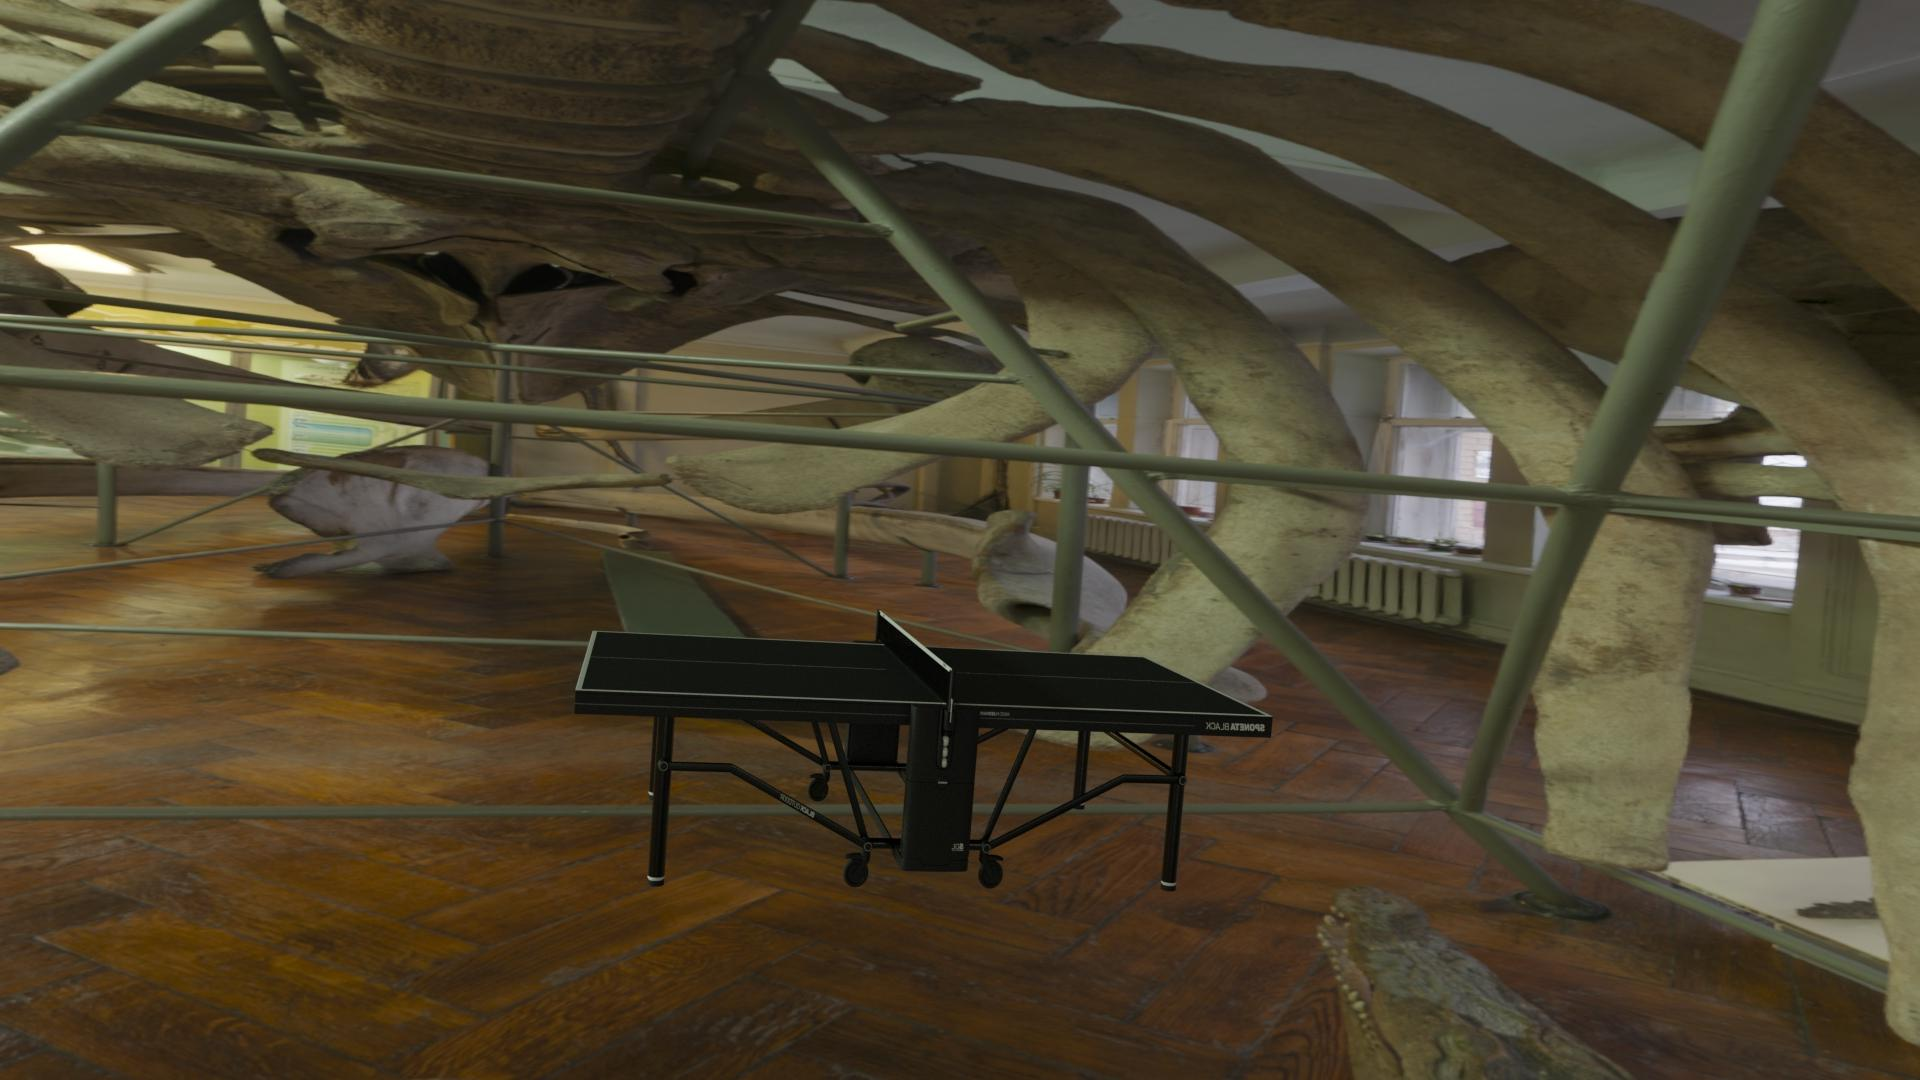table: (582, 632, 1266, 715)
